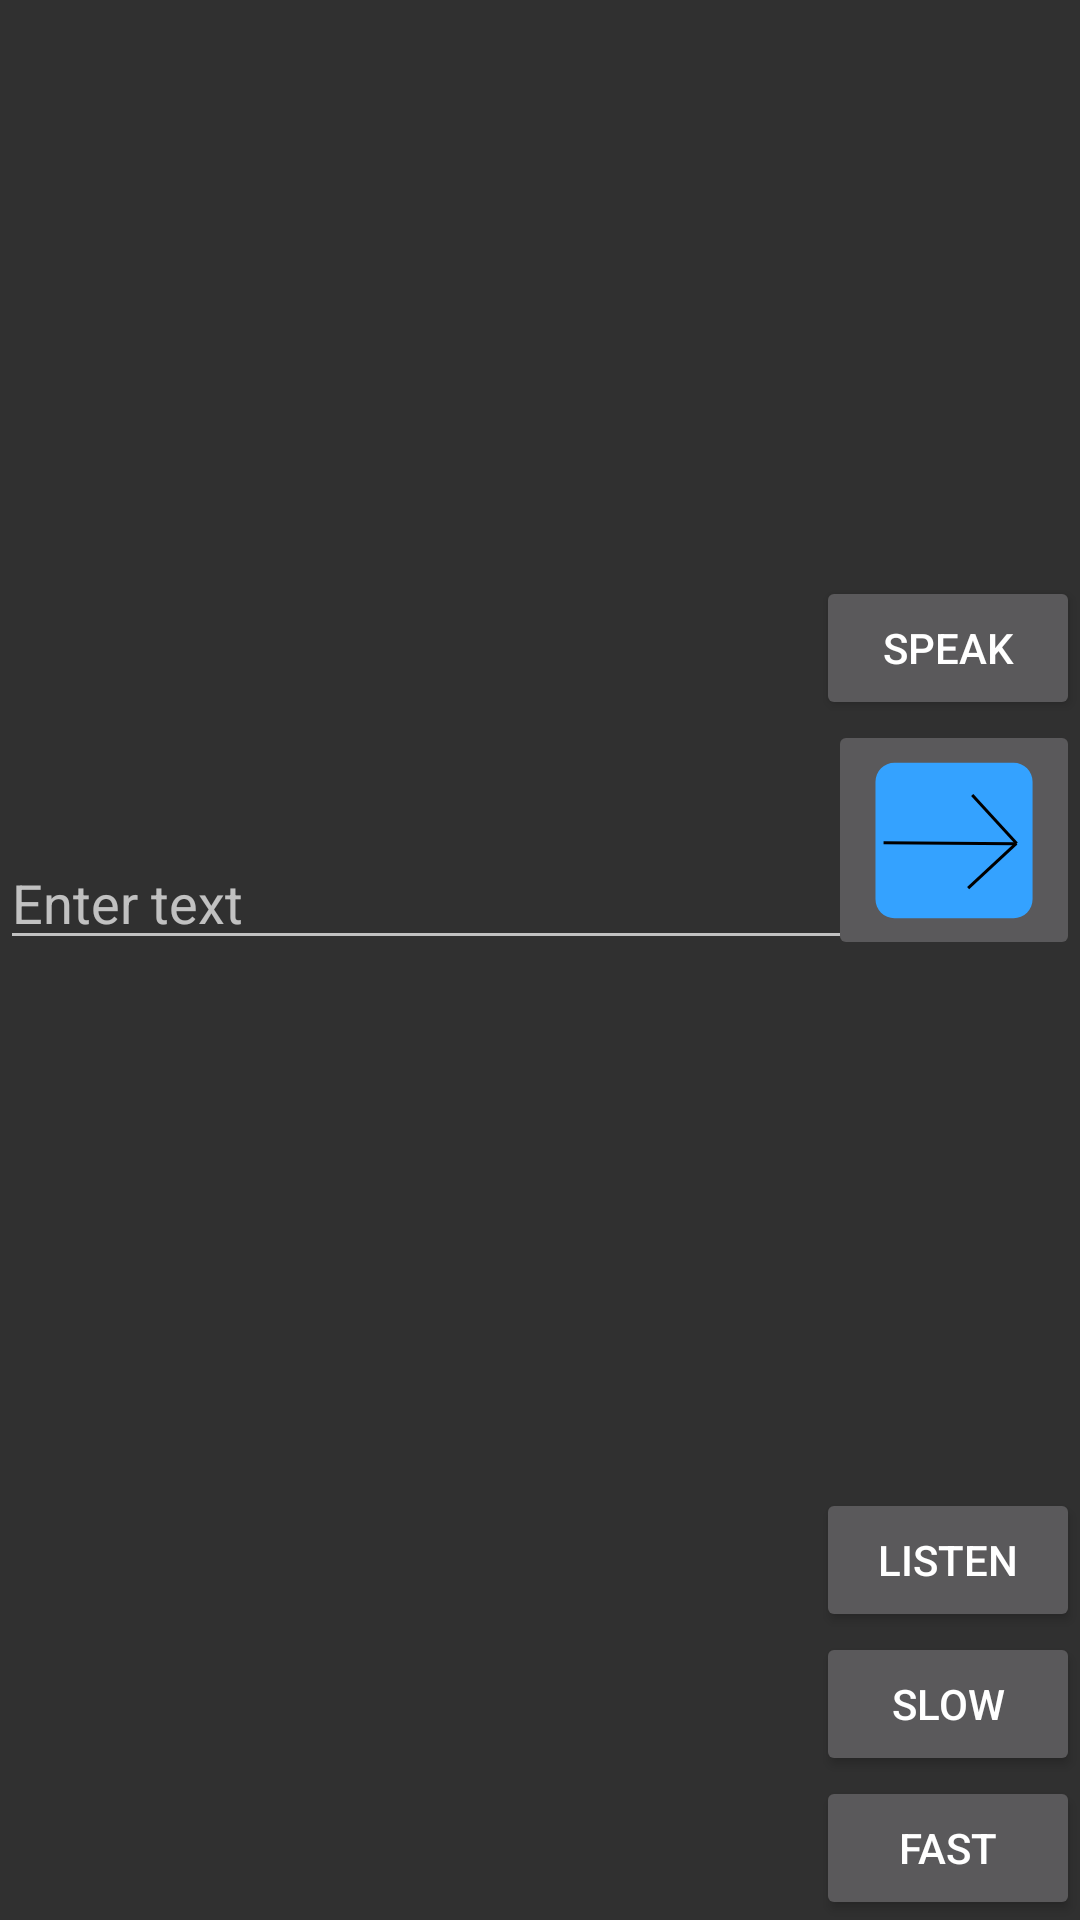

Icon click points for this 1080w x 1920h phone screenshot, format (x=x, y=y):
submit: (x=948, y=840)
